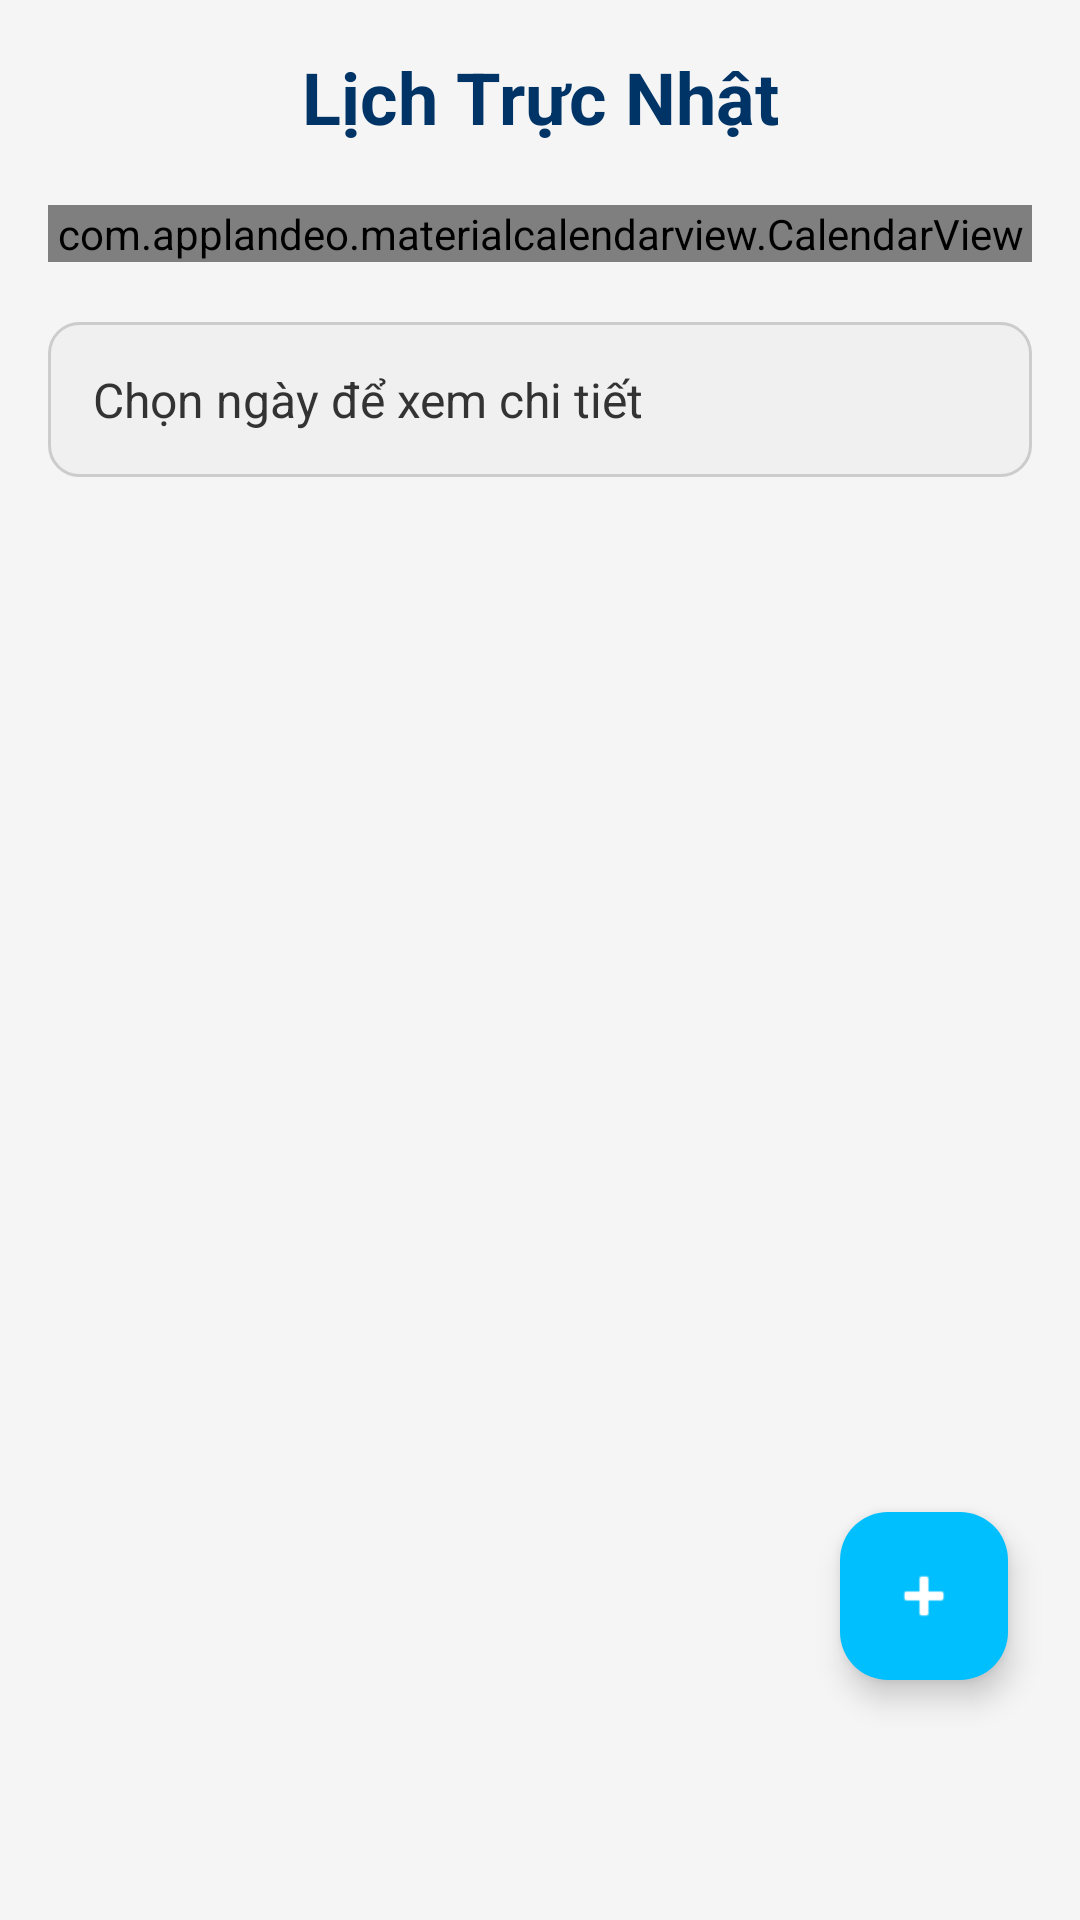

Named icons in this screenshot (1080px x 1920px) and their bounding boxes, (x1, y1, x2, y2):
Thêm lịch: (840, 1512, 1008, 1680)
